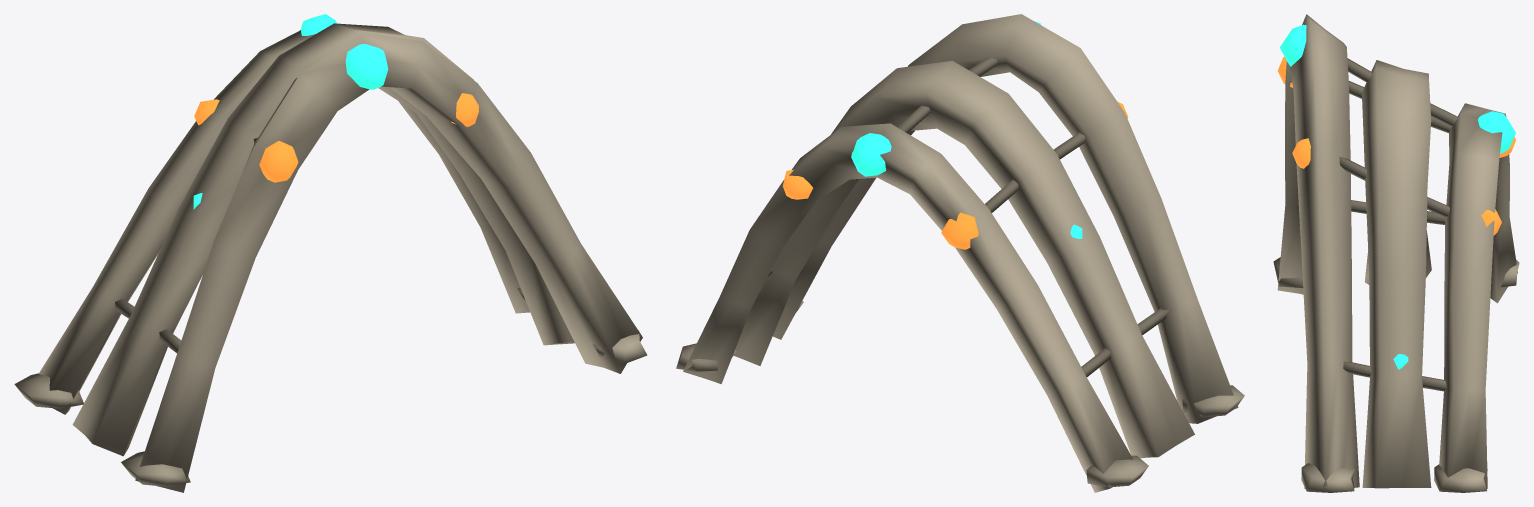
Rendered from flora_arch.glb.
3 renders of one model, left to right at view 1: azimuth 30°, elevation 25°; view 2: azimuth 150°, elevation 25°; view 3: azimuth 270°, elevation 25°, orthographic. The views are drawn at different scales.
Parts seen in each view (by area): view 1: flora_arch; view 2: flora_arch; view 3: flora_arch.
Boxes of the visible parts, x1=… form: flora_arch: x1=14, y1=14, x2=647, y2=492; flora_arch: x1=676, y1=14, x2=1244, y2=492; flora_arch: x1=1273, y1=14, x2=1519, y2=492.
Size of the model in its own units: 6.2 by 4.62 by 2.82.
